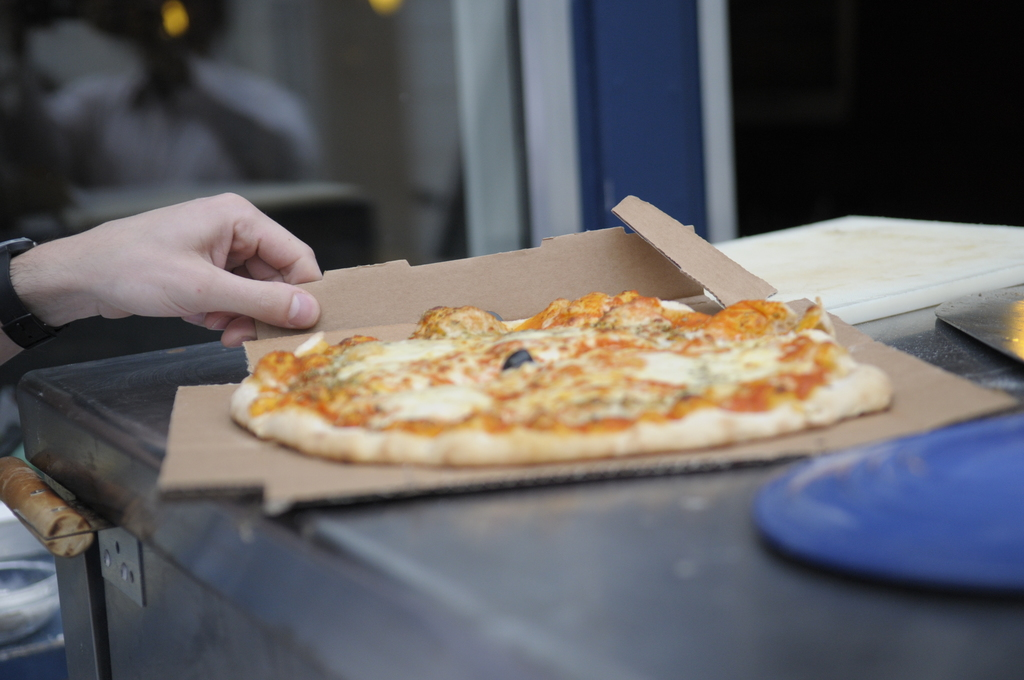Pizza: (232, 290, 894, 448)
